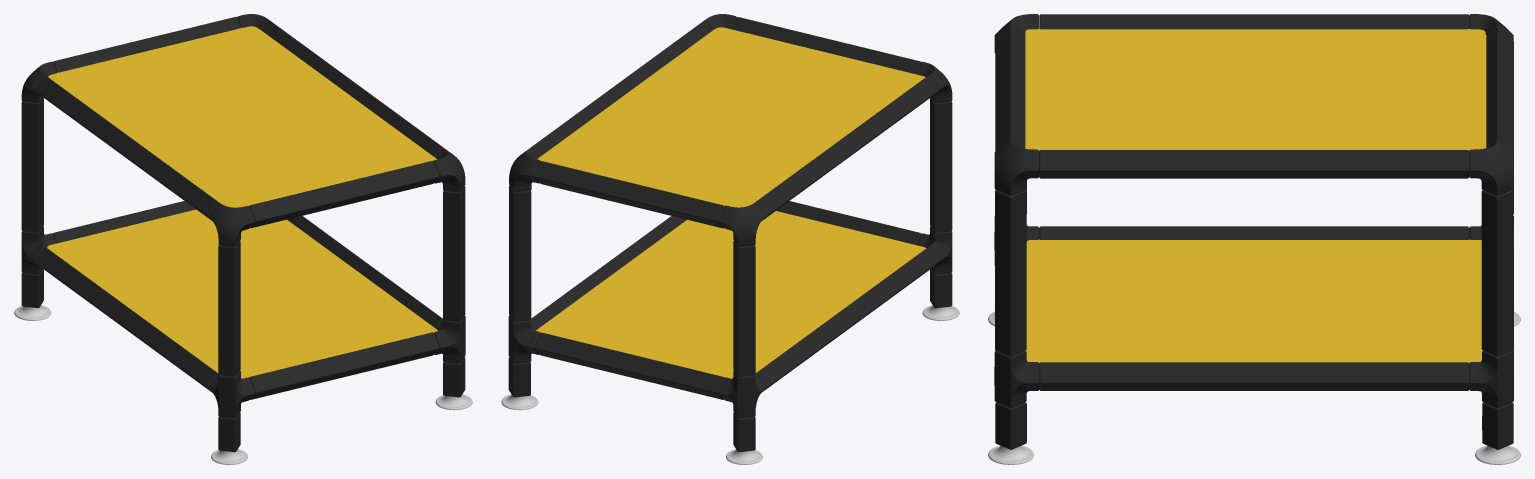
3 renders of one model, left to right at view 1: azimuth 30°, elevation 25°; view 2: azimuth 150°, elevation 25°; view 3: azimuth 270°, elevation 25°, orthographic. The views are drawn at different scales.
Visible parts, largest first — view 1: 229x374x154; view 2: 229x374x154; view 3: 229x374x154.
Boxes of the visible parts, x1=… form: 229x374x154: x1=14, y1=14, x2=472, y2=464; 229x374x154: x1=501, y1=14, x2=959, y2=464; 229x374x154: x1=988, y1=14, x2=1520, y2=464.
Size of the model in its own units: 0.3189 by 0.2933 by 0.4632.
